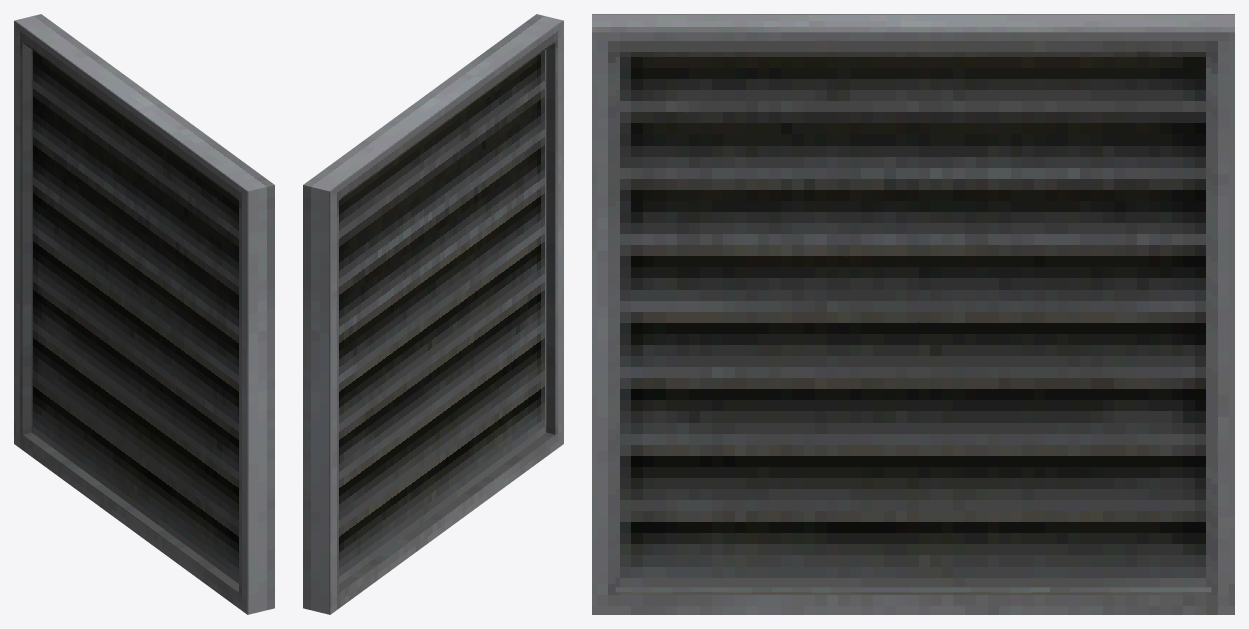
File: vent_cover.glb
3 views of the same model, side by side, from view 1: azimuth 30°, elevation 25°; view 2: azimuth 150°, elevation 25°; view 3: azimuth 270°, elevation 25° (orthographic). The views are drawn at different scales.
Parts seen in each view (by area): view 1: vent_cover; view 2: vent_cover; view 3: vent_cover.
Boxes of the visible parts, bbox=[...] form: vent_cover: bbox=[14, 14, 274, 614]; vent_cover: bbox=[303, 14, 563, 614]; vent_cover: bbox=[592, 14, 1234, 614].
Size of the model in its own units: 0.0673 by 1 by 1.
Materials: 1 (1 with a texture image).
